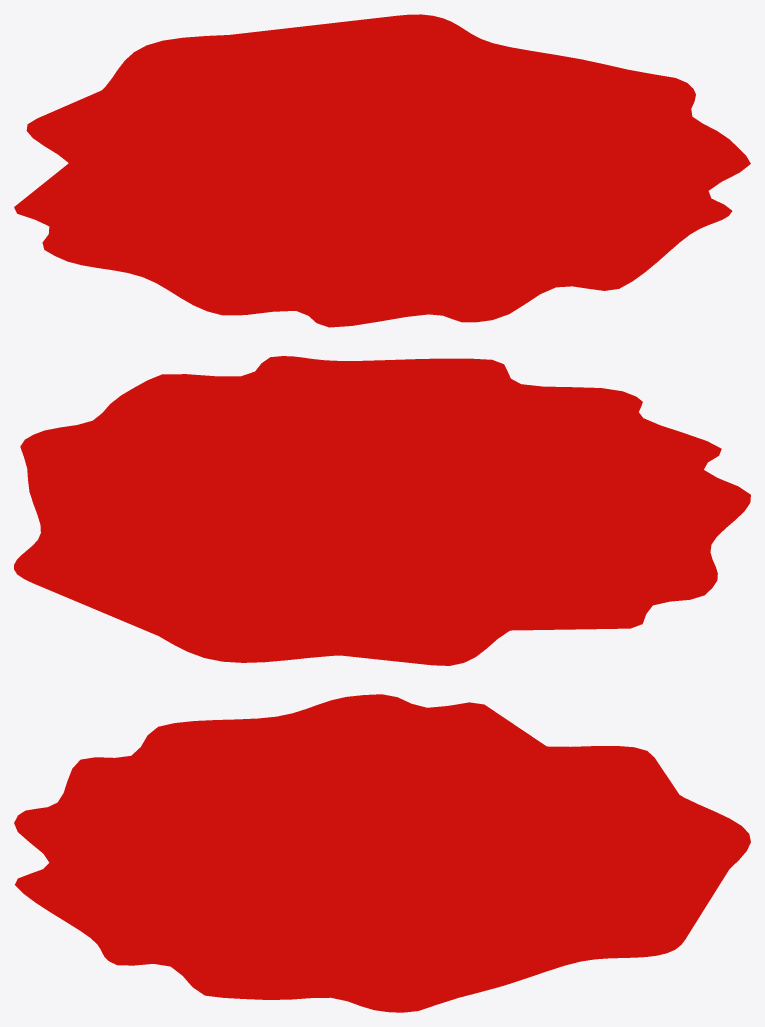
Rendered from pizzacream.fbx.
3 views of the same model, one above another, from view 1: azimuth 30°, elevation 25°; view 2: azimuth 150°, elevation 25°; view 3: azimuth 270°, elevation 25° (orthographic). The views are drawn at different scales.
Visible parts, largest first — view 1: Pizzacream; view 2: Pizzacream; view 3: Pizzacream.
Part boxes in pixels (box(x1,y1,x2,y2)): Pizzacream: box(14, 14, 750, 327); Pizzacream: box(14, 356, 750, 665); Pizzacream: box(14, 694, 750, 1012).
Bounding box in the file's own units: 201 × 0 × 197.
